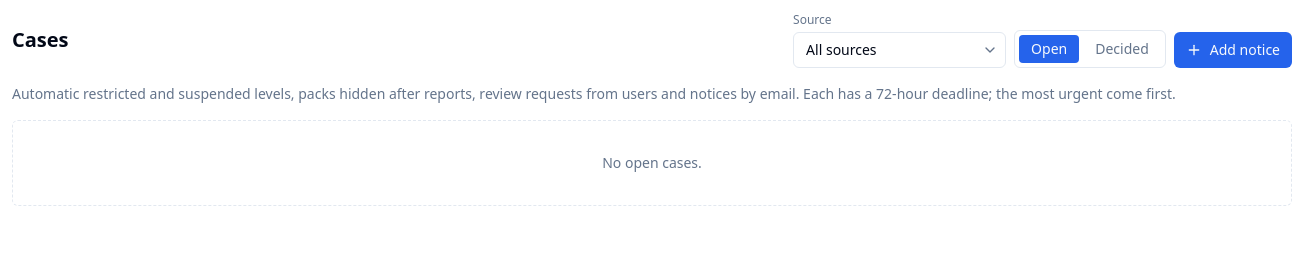
Test: CasesPage › shows decided cases with who decided
Expected: the text "No open cases." is shown, [12, 120, 1292, 206]
Click the tab "Decided". click: (1122, 49)
box: [1083, 35, 1161, 63]
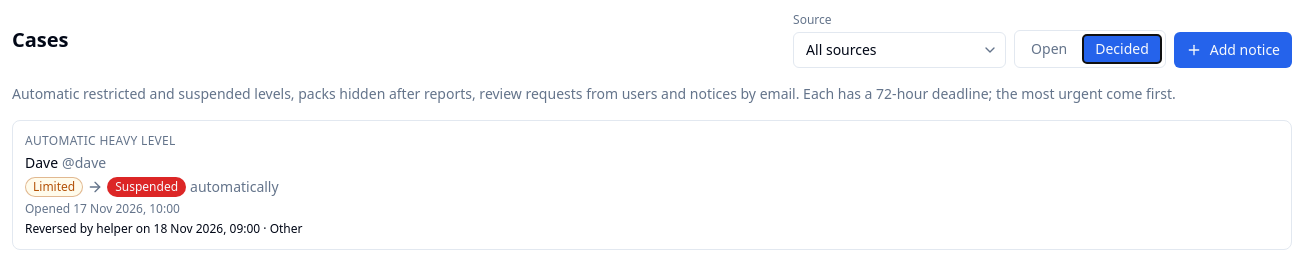
Now the text "Reversed by helper on 18 Nov 2026, 09:00 · Other" is shown, box [25, 221, 302, 237]
